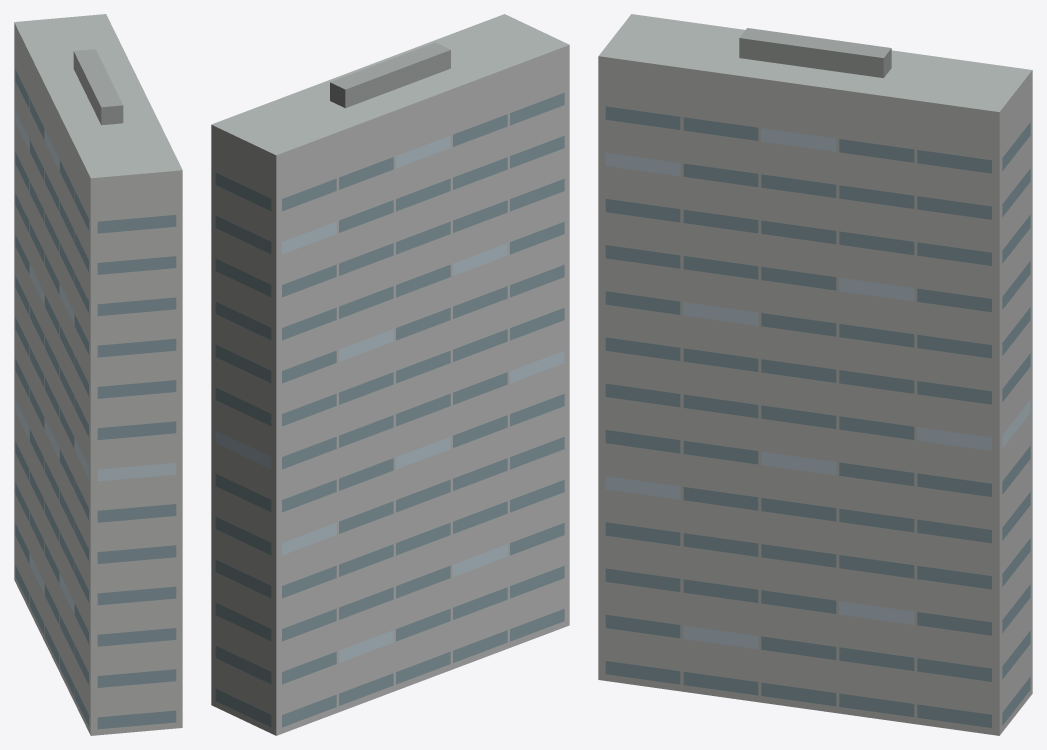
The model's file is fallback-jamsil-els-108.glb.
3 views of the same model, side by side, from view 1: azimuth 30°, elevation 25°; view 2: azimuth 150°, elevation 25°; view 3: azimuth 270°, elevation 25° (orthographic). The views are drawn at different scales.
Parts seen in each view (by area): view 1: fallback-jamsil-els-108; view 2: fallback-jamsil-els-108; view 3: fallback-jamsil-els-108.
Part boxes in pixels (<box>): fallback-jamsil-els-108: <box>14,14,182,735</box>; fallback-jamsil-els-108: <box>211,14,569,735</box>; fallback-jamsil-els-108: <box>598,14,1032,735</box>.
Bounding box in the file's own units: 25.18 × 77 × 47.04.
